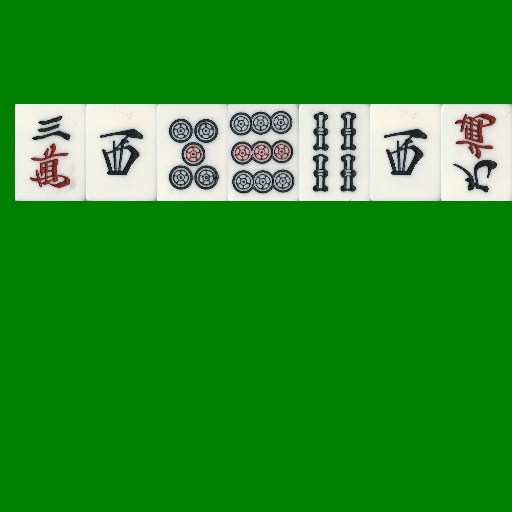3m: (15, 104, 86, 201)
4s: (299, 104, 370, 201)
5p: (157, 104, 228, 201)
9m: (441, 104, 512, 201)
9p: (228, 104, 299, 201)
west: (86, 104, 157, 201), (370, 104, 441, 201)
